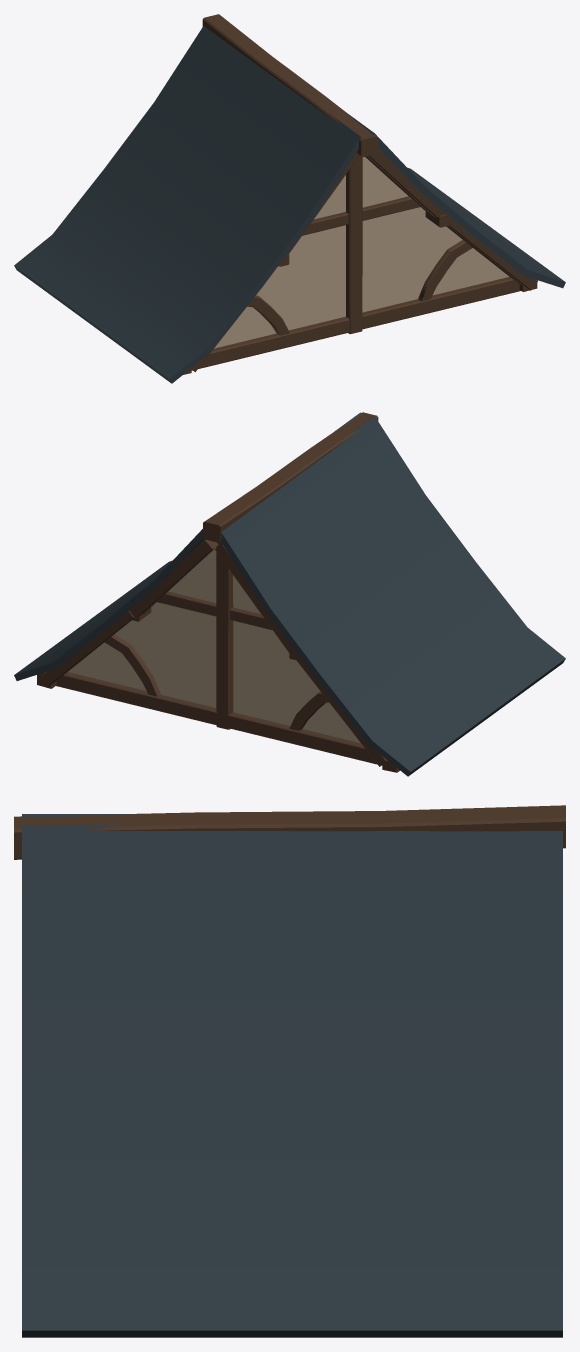
The model's file is Roof1.fbx.
3 views of the same model, one above another, from view 1: azimuth 30°, elevation 25°; view 2: azimuth 150°, elevation 25°; view 3: azimuth 270°, elevation 25° (orthographic). The views are drawn at different scales.
Parts seen in each view (by area): view 1: Cube.027; view 2: Cube.027; view 3: Cube.027.
Boxes of the visible parts, left/top/right/bottom form: Cube.027: left=14, top=14, right=565, bottom=383; Cube.027: left=14, top=412, right=565, bottom=776; Cube.027: left=14, top=805, right=565, bottom=1337.
Bounding box in the file's own units: 7.4 × 3.79 × 5.11.
